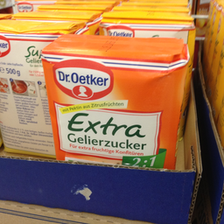sugar: (41, 33, 190, 171), (1, 20, 80, 156)
